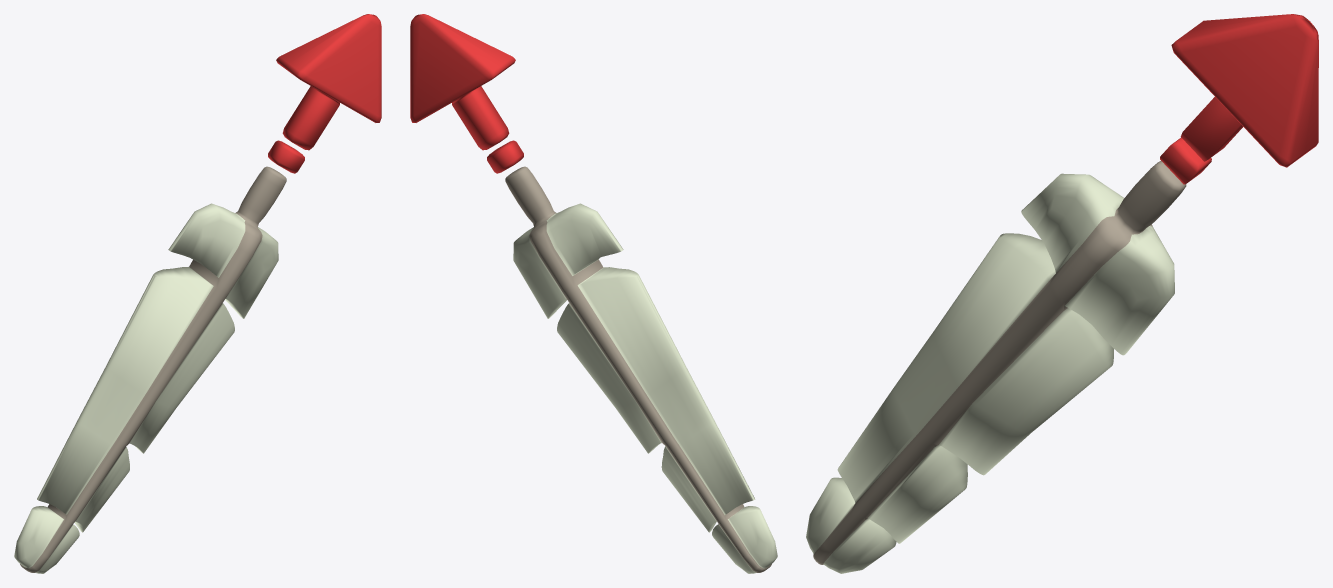
Rendered from pluma_texturizada.fbx.
3 views of the same model, side by side, from view 1: azimuth 30°, elevation 25°; view 2: azimuth 150°, elevation 25°; view 3: azimuth 330°, elevation 25° (orthographic). The views are drawn at different scales.
Visible parts, largest first — view 1: Cube; view 2: Cube; view 3: Cube.
Part boxes in pixels (x1,y1,x2,y2): Cube: [14, 14, 381, 573]; Cube: [410, 14, 777, 573]; Cube: [806, 14, 1318, 573].
Size of the model in its own units: 205 by 257 by 32.22.
